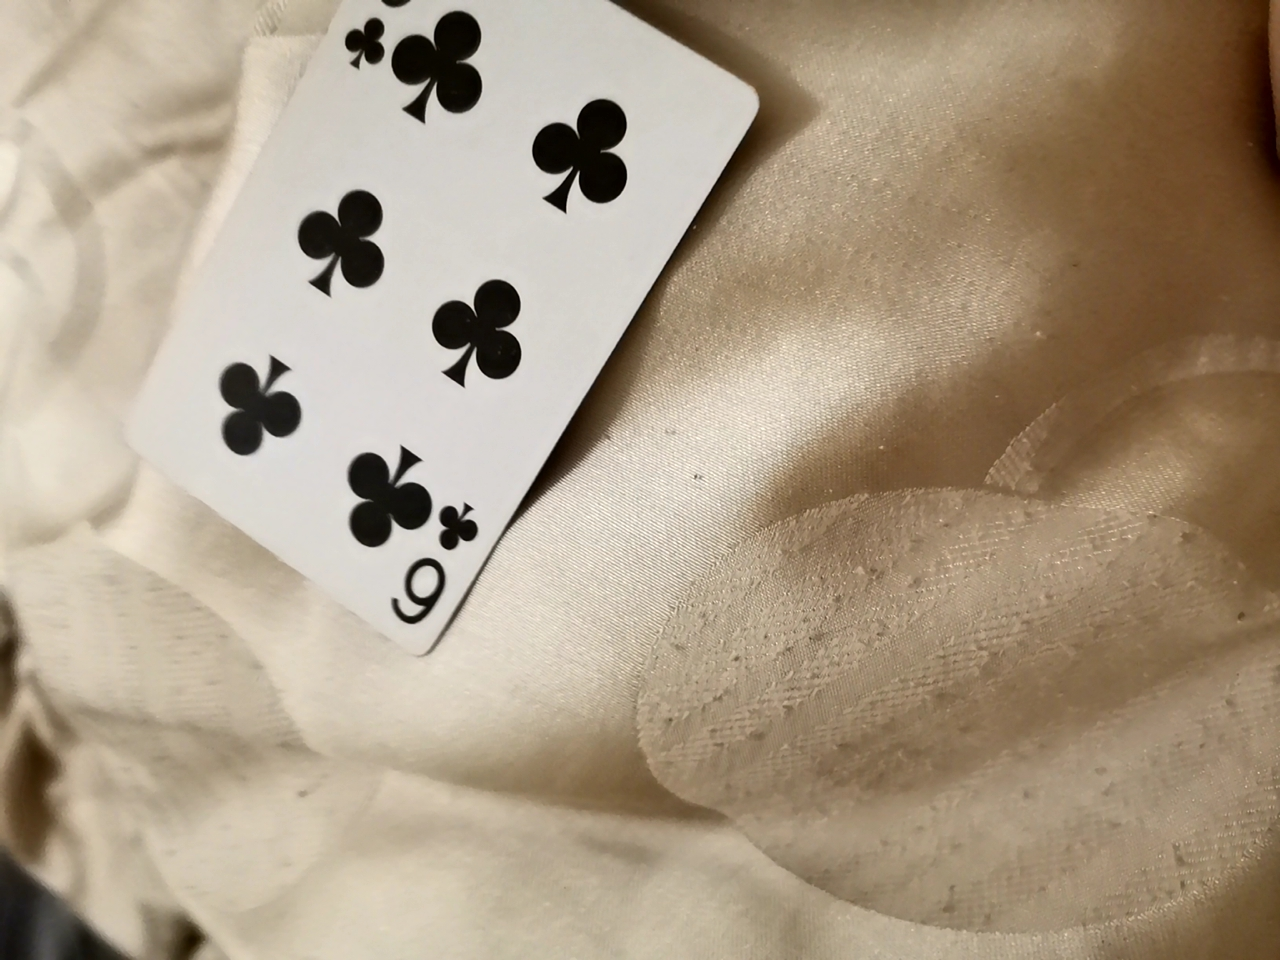mh 6: (49, 4, 745, 668)
